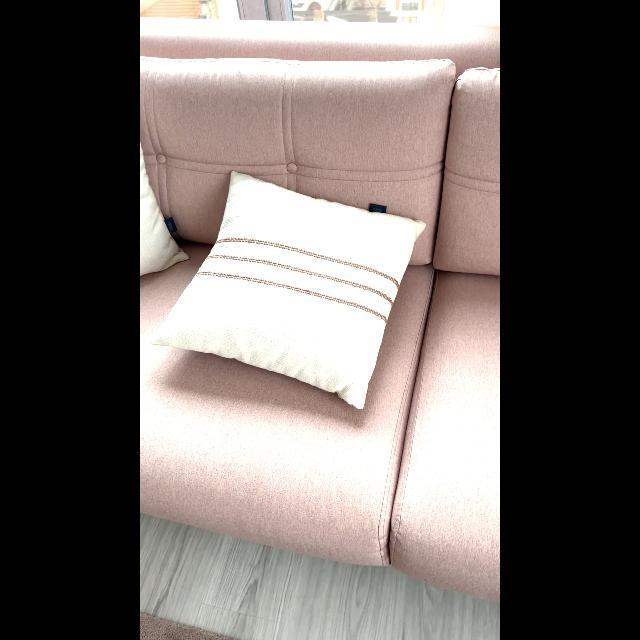throw pillow: (153, 159, 435, 415)
